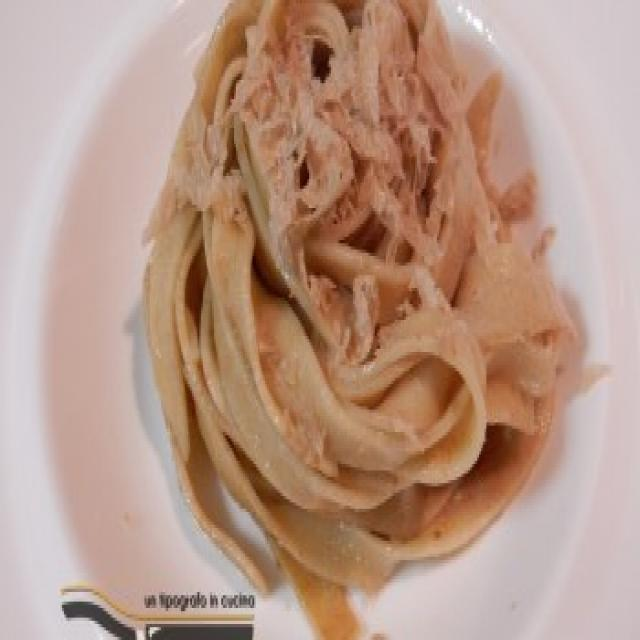Oil pasta: (156, 10, 580, 605)
